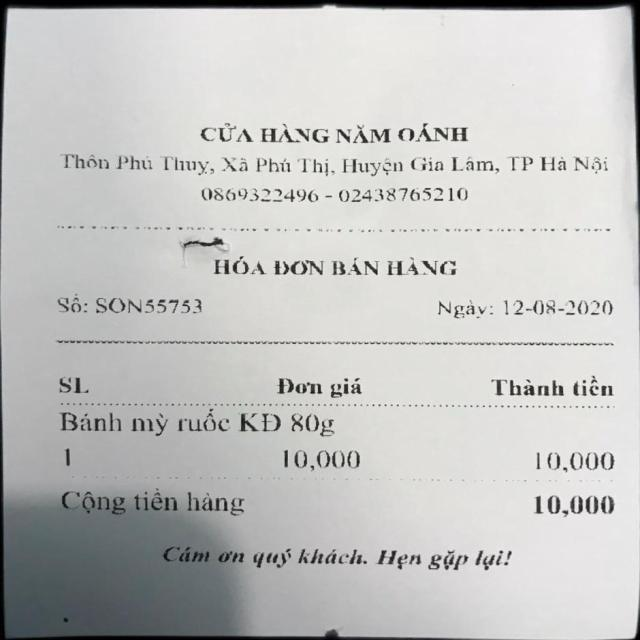Date: (501, 283, 628, 326)
Store_Name: (176, 112, 484, 145)
amount_number: (530, 490, 619, 522)
label_total: (58, 486, 254, 520)
